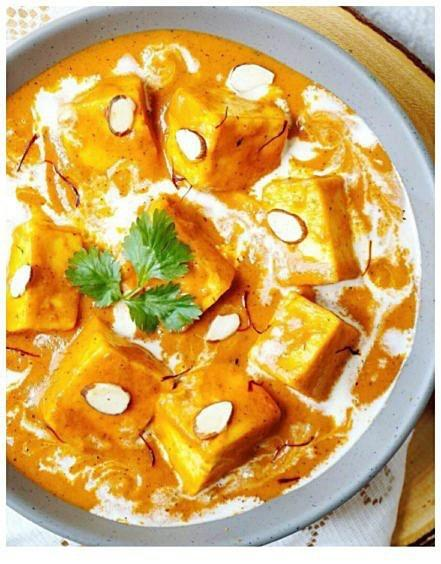ShahiPaneer: (6, 31, 421, 526)
